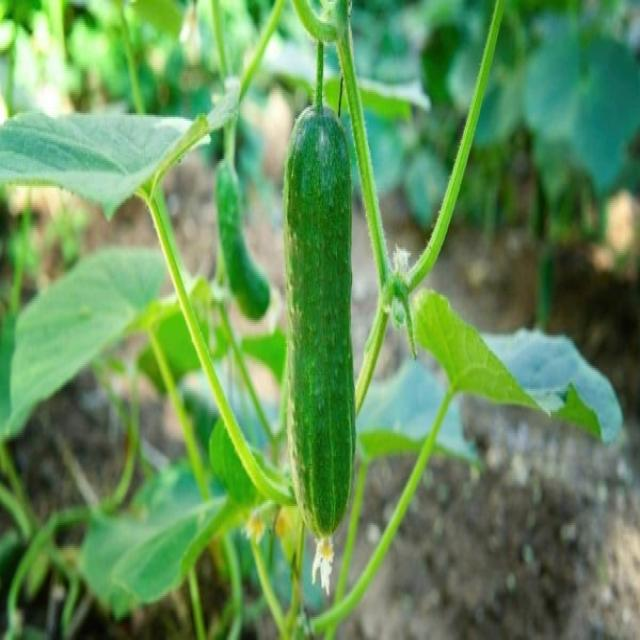cucumber: (285, 103, 359, 540)
